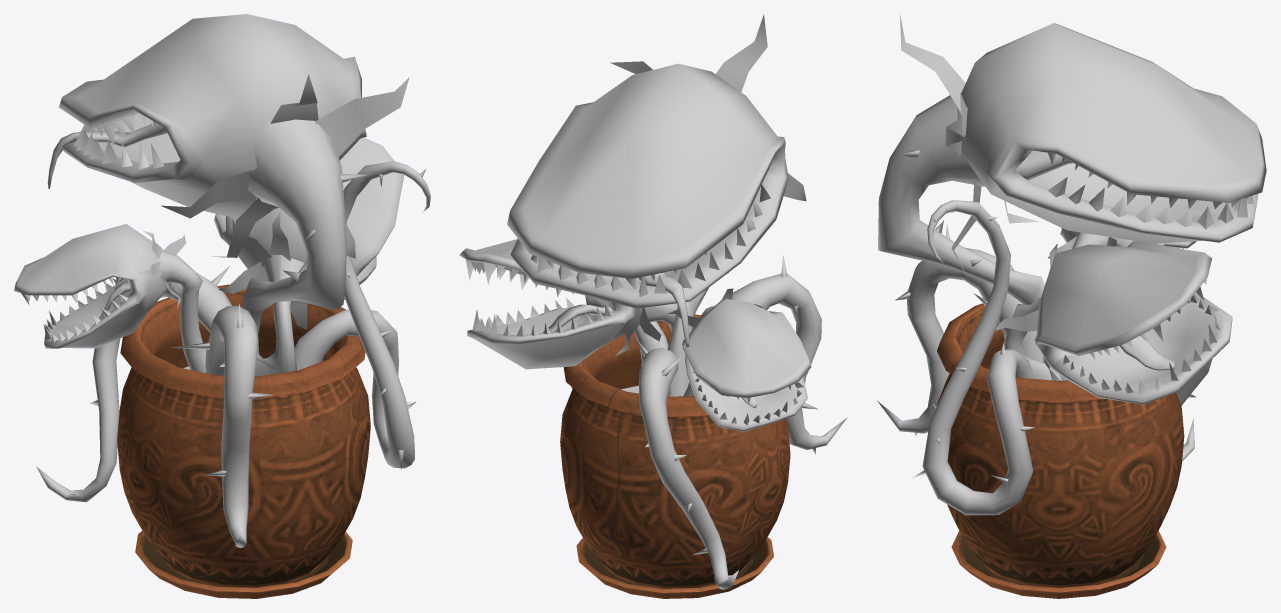
The picture shows the model from 3 angles, left to right: view 1: azimuth 30°, elevation 25°; view 2: azimuth 150°, elevation 25°; view 3: azimuth 270°, elevation 25°; orthographic projection. The views are drawn at different scales.
Parts seen in each view (by area): view 1: Plant, pot; view 2: Plant, pot; view 3: Plant, pot.
Boxes of the visible parts, x1,y1,x2,y2 form: Plant: (14,14,430,547); pot: (117,284,370,598); Plant: (459,14,847,589); pot: (560,314,790,598); Plant: (877,15,1266,515); pot: (937,303,1184,598).
Bounding box in the file's own units: 5.12 × 7.12 × 4.7.
